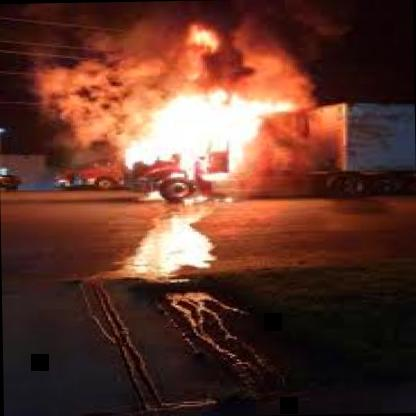fire: (112, 35, 328, 218)
